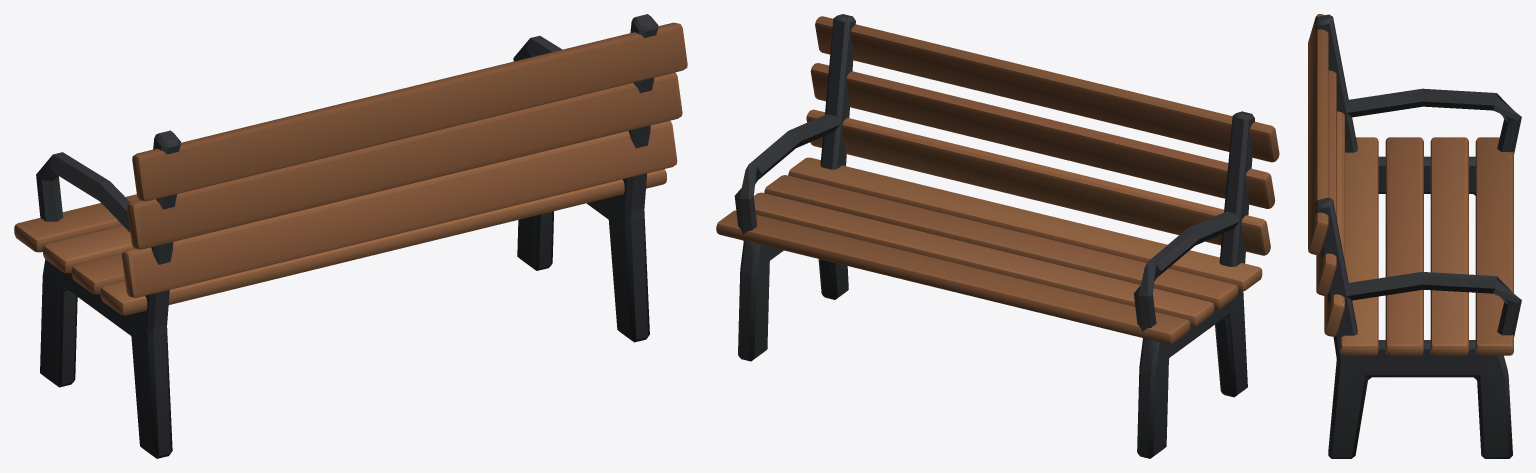
File: bench.glb
The picture shows the model from 3 angles, left to right: view 1: azimuth 30°, elevation 25°; view 2: azimuth 150°, elevation 25°; view 3: azimuth 270°, elevation 25°; orthographic projection. The views are drawn at different scales.
Parts seen in each view (by area): view 1: bench; view 2: bench; view 3: bench.
Part boxes in pixels (x1,y1,x2,y2): bench: (14,14,687,458); bench: (716,14,1279,458); bench: (1308,14,1521,458).
Bounding box in the file's own units: 1.1 × 0.6281 × 0.4739.
